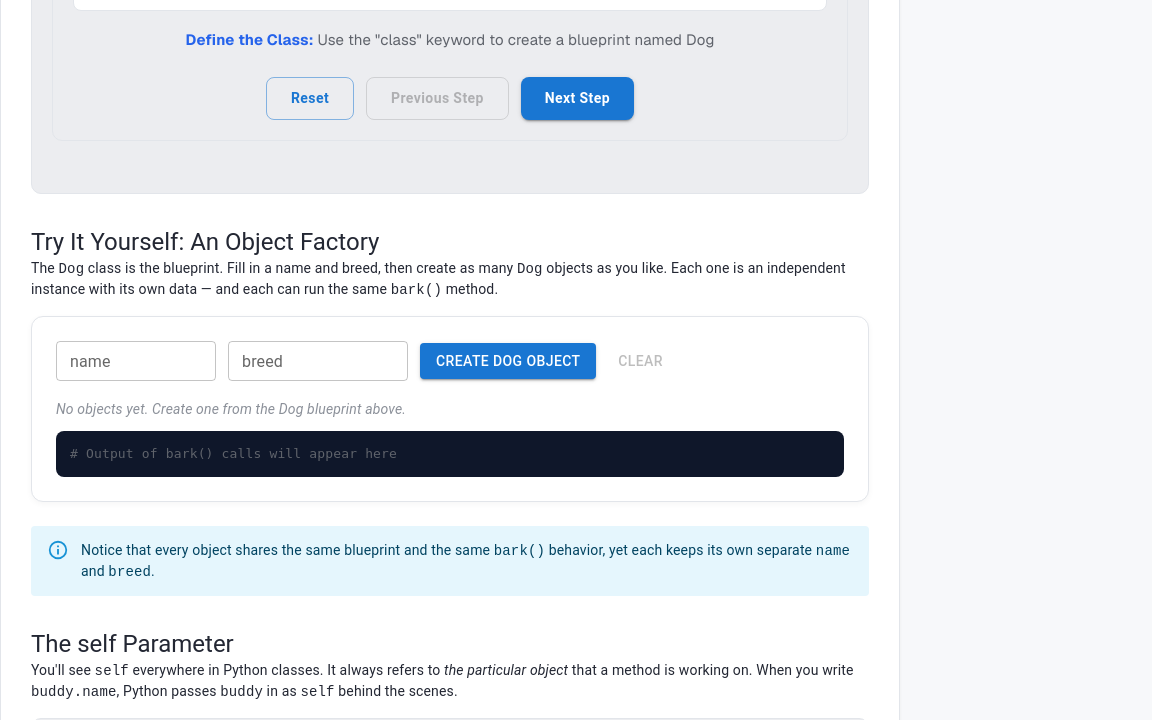
Test: ClassesObjectsConcept › defaults to Buddy / Mixed when no values are given
(page scrolled)
What coordinates should you click on to do the following:
click the button "Create Dog object"
I would click on:
 (508, 361)
Its box is left=420, top=343, right=596, bottom=379.
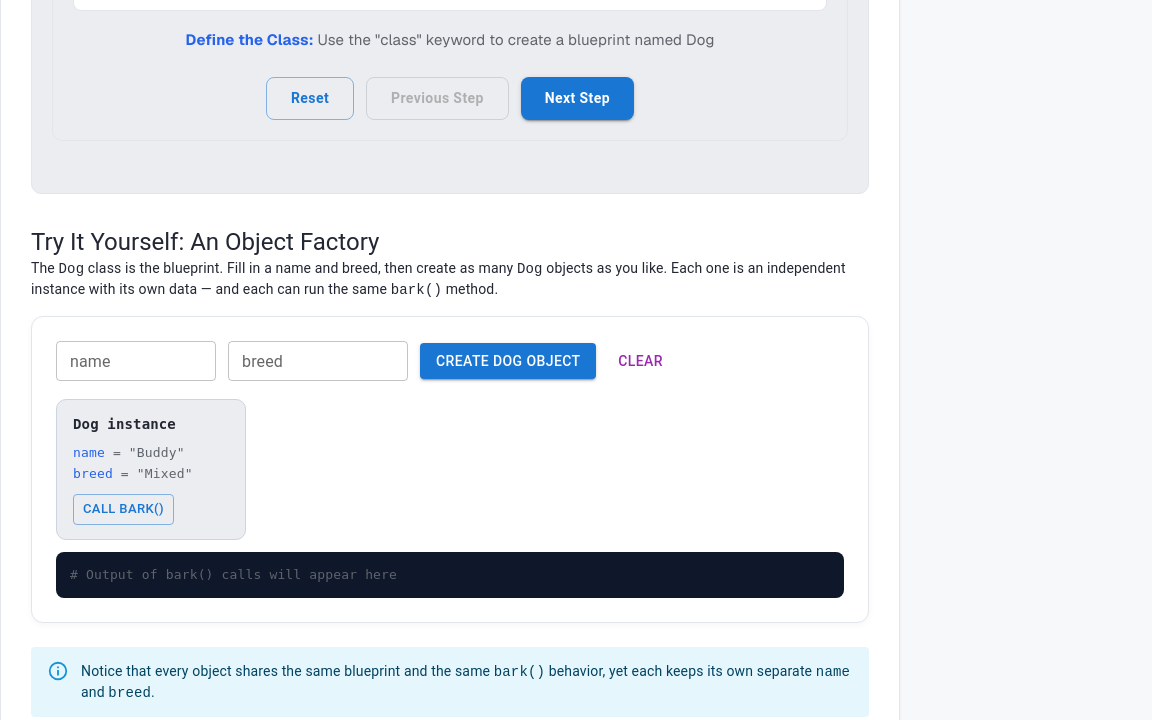
Expected: the text "name = \"Buddy\"" is shown, left=73, top=445, right=185, bottom=460
Expected: the text "breed = \"Mixed\"" is shown, left=73, top=466, right=193, bottom=481
